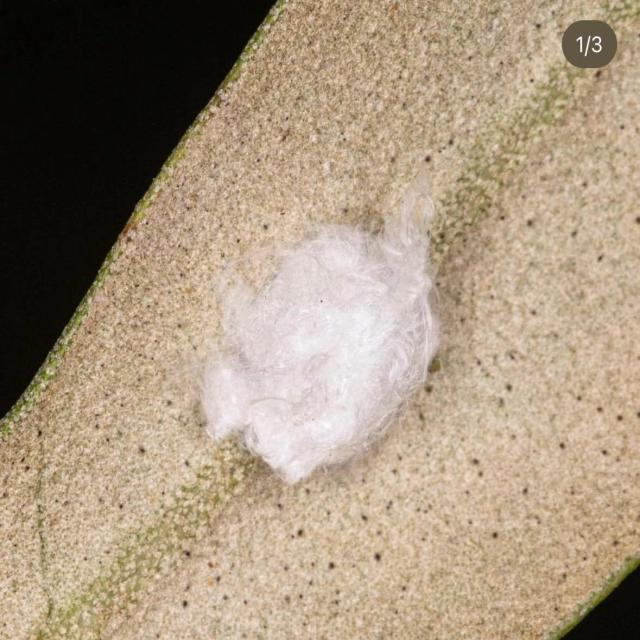Psyllid: (188, 163, 439, 485)
